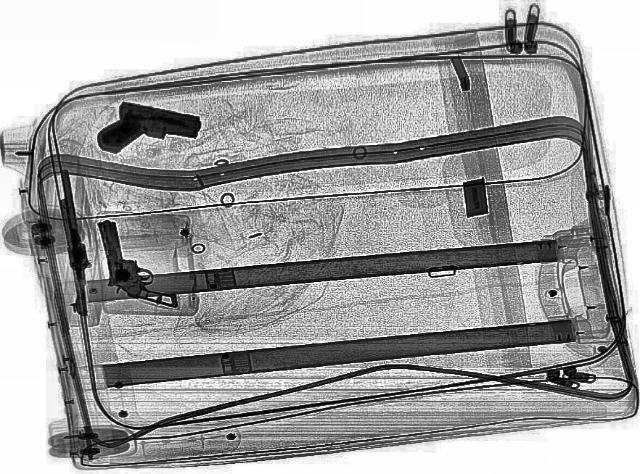Gun: (92, 96, 206, 168), (95, 214, 177, 312), (51, 164, 94, 322)
